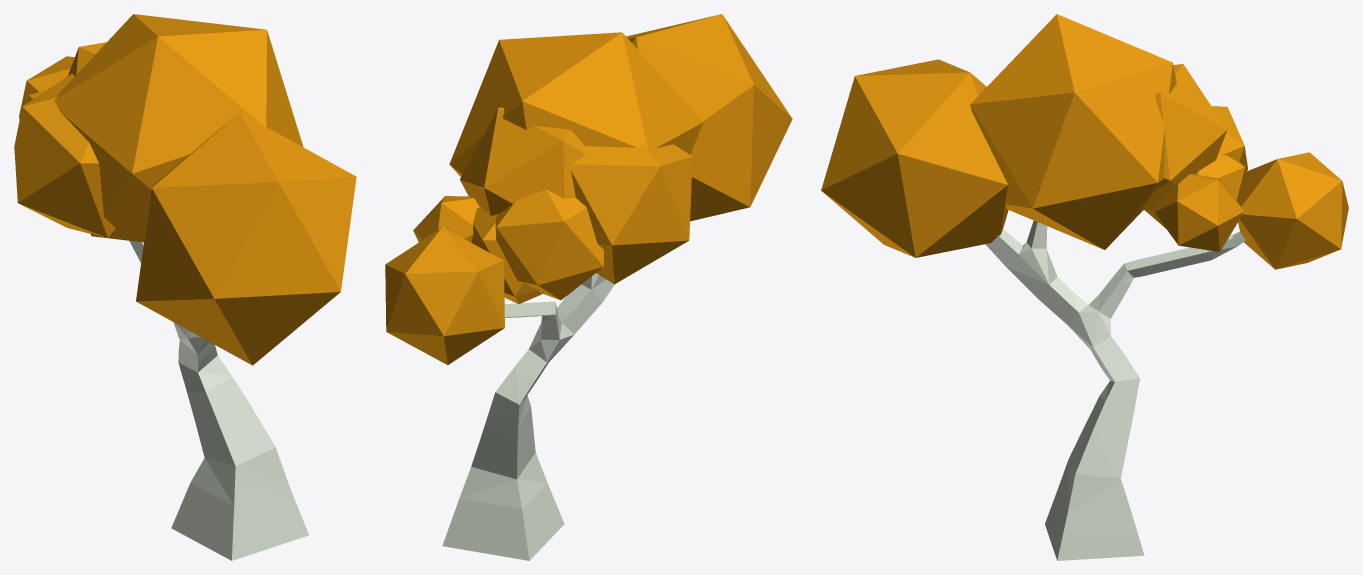
The model's file is poplar_tree.gltf.
3 renders of one model, left to right at view 1: azimuth 30°, elevation 25°; view 2: azimuth 150°, elevation 25°; view 3: azimuth 270°, elevation 25°, orthographic. The views are drawn at different scales.
Parts seen in each view (by area): view 1: Cube.001; view 2: Cube.001; view 3: Cube.001.
Part boxes in pixels (x1,y1,x2,y2): Cube.001: (14, 14, 356, 560); Cube.001: (385, 14, 792, 560); Cube.001: (821, 14, 1348, 560).
Size of the model in its own units: 2.58 by 5.15 by 5.13.
